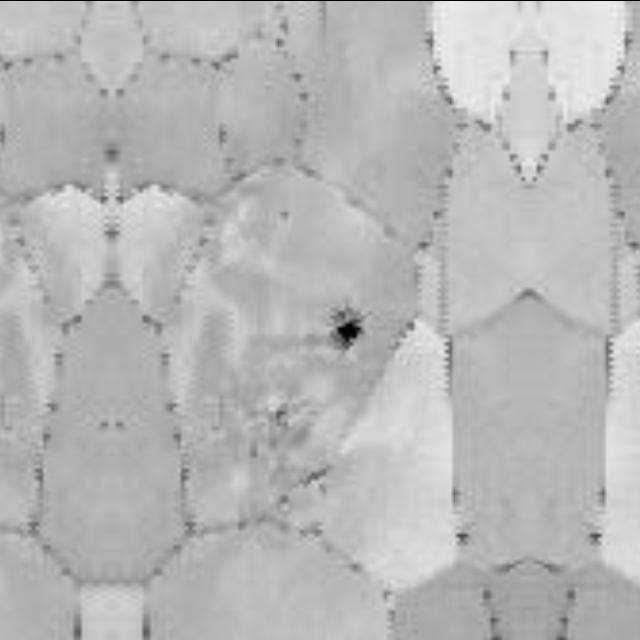good_void: (327, 300, 368, 349)
